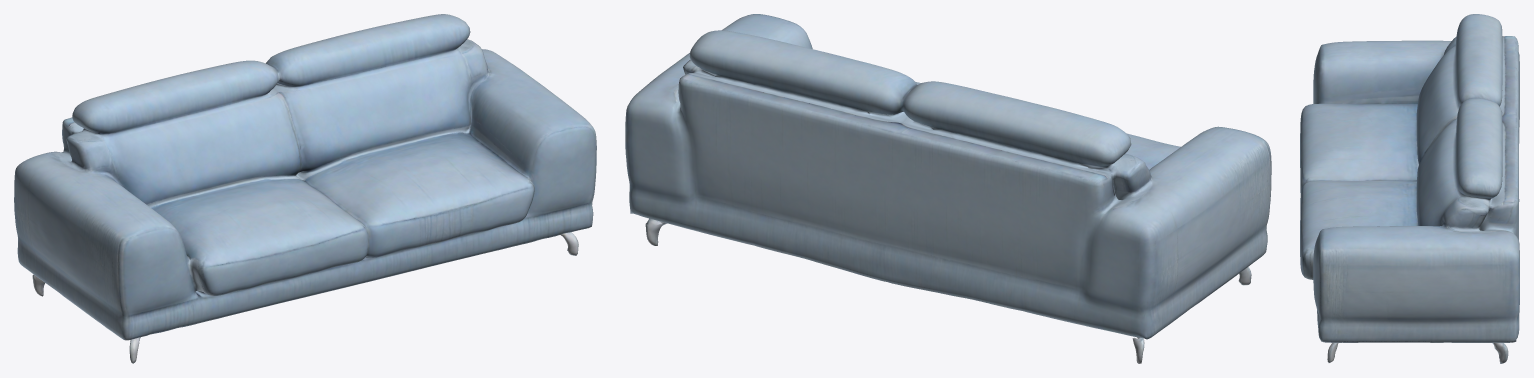
The picture shows the model from 3 angles, left to right: view 1: azimuth 30°, elevation 25°; view 2: azimuth 150°, elevation 25°; view 3: azimuth 270°, elevation 25°; orthographic projection. The views are drawn at different scales.
Bounding box in the file's own units: 2 × 0.7663 × 0.8616.
Materials: 1 (1 with a texture image).
